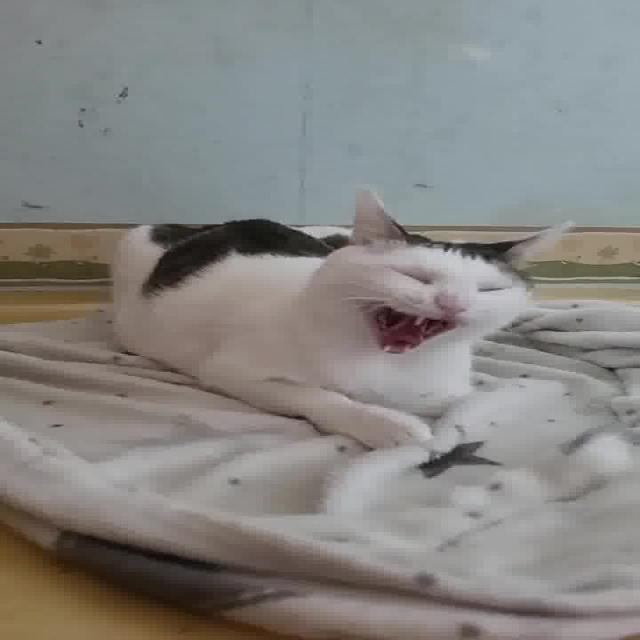cat: (111, 182, 593, 452)
